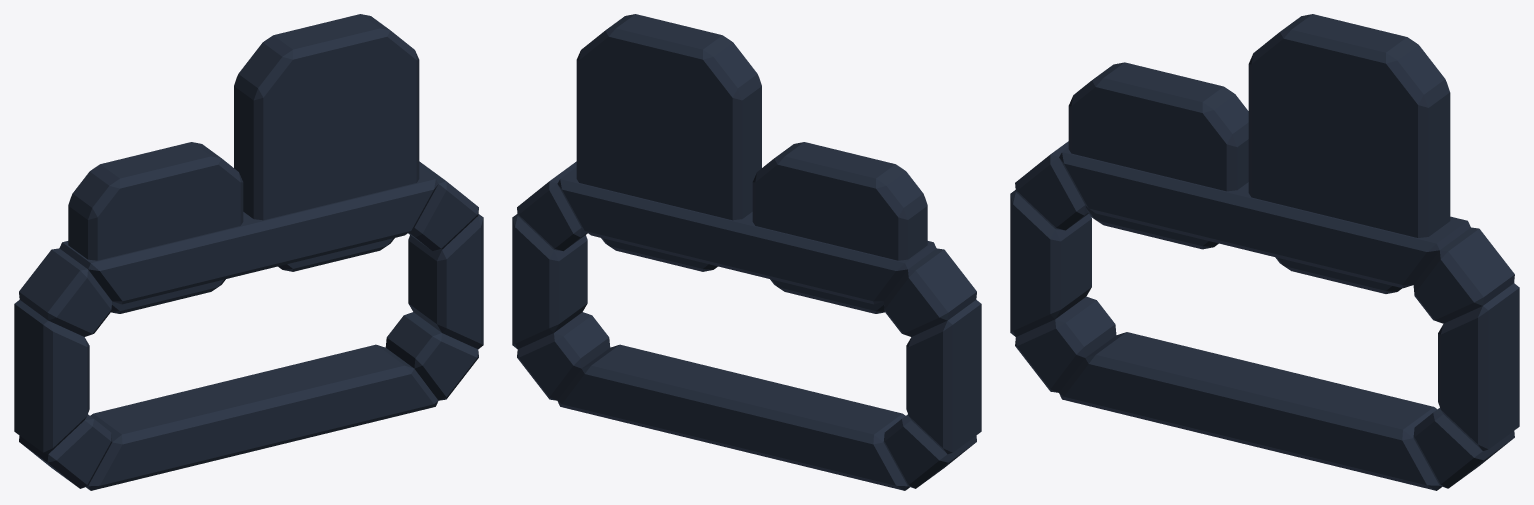
The model's file is symbol-cloud.glb.
The picture shows the model from 3 angles, left to right: view 1: azimuth 30°, elevation 25°; view 2: azimuth 150°, elevation 25°; view 3: azimuth 330°, elevation 25°; orthographic projection. The views are drawn at different scales.
Parts seen in each view (by area): view 1: symbol-cloud_SystemMaterial; view 2: symbol-cloud_SystemMaterial; view 3: symbol-cloud_SystemMaterial.
Boxes of the visible parts, bbox=[...] form: symbol-cloud_SystemMaterial: bbox=[14, 14, 483, 490]; symbol-cloud_SystemMaterial: bbox=[512, 14, 981, 490]; symbol-cloud_SystemMaterial: bbox=[1010, 14, 1519, 490].
Bounding box in the file's own units: 0.85 × 0.715 × 0.12.
